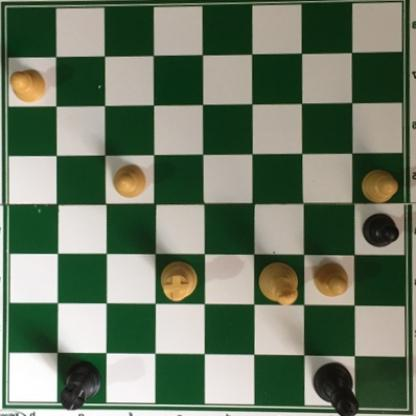black-king: (311, 359, 358, 415)
black-pawn: (360, 214, 400, 249)
black-rook: (58, 361, 103, 414)
white-king: (256, 259, 299, 307)
white-pawn: (311, 260, 349, 301), (360, 169, 399, 205), (8, 69, 46, 105), (112, 163, 147, 200)
white-rook: (158, 261, 198, 306)
